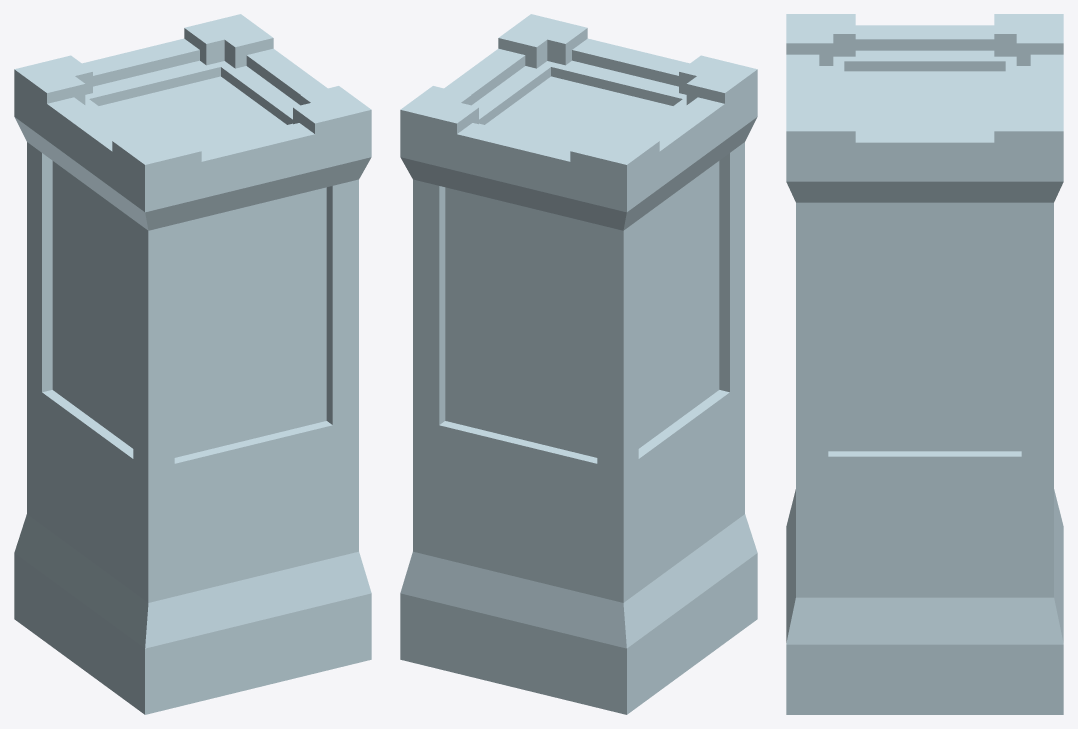
File: rempart-glace-tour.glb
The picture shows the model from 3 angles, left to right: view 1: azimuth 30°, elevation 25°; view 2: azimuth 150°, elevation 25°; view 3: azimuth 270°, elevation 25°; orthographic projection. The views are drawn at different scales.
Parts seen in each view (by area): view 1: tower-square-base; view 2: tower-square-base; view 3: tower-square-base.
Part boxes in pixels (left/top/right/bottom): tower-square-base: left=14, top=14, right=371, bottom=714; tower-square-base: left=400, top=14, right=757, bottom=714; tower-square-base: left=786, top=14, right=1063, bottom=714.
Size of the model in its own units: 9 by 20.88 by 9.
